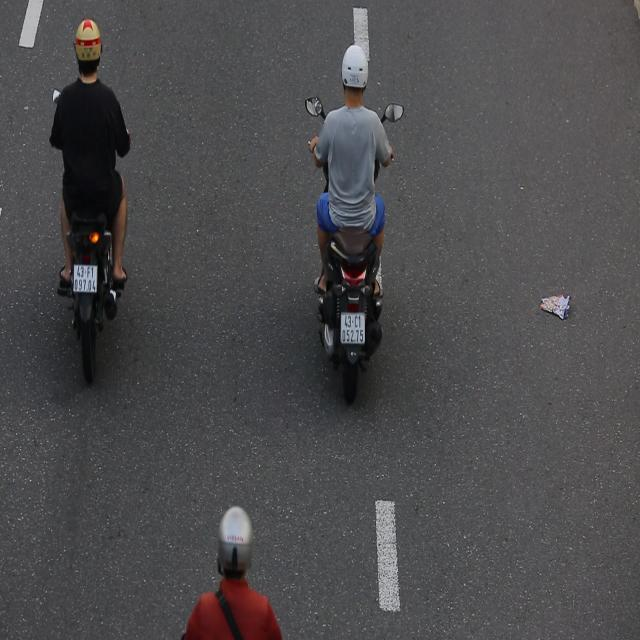motorbike: (302, 29, 411, 433), (43, 0, 132, 399)
